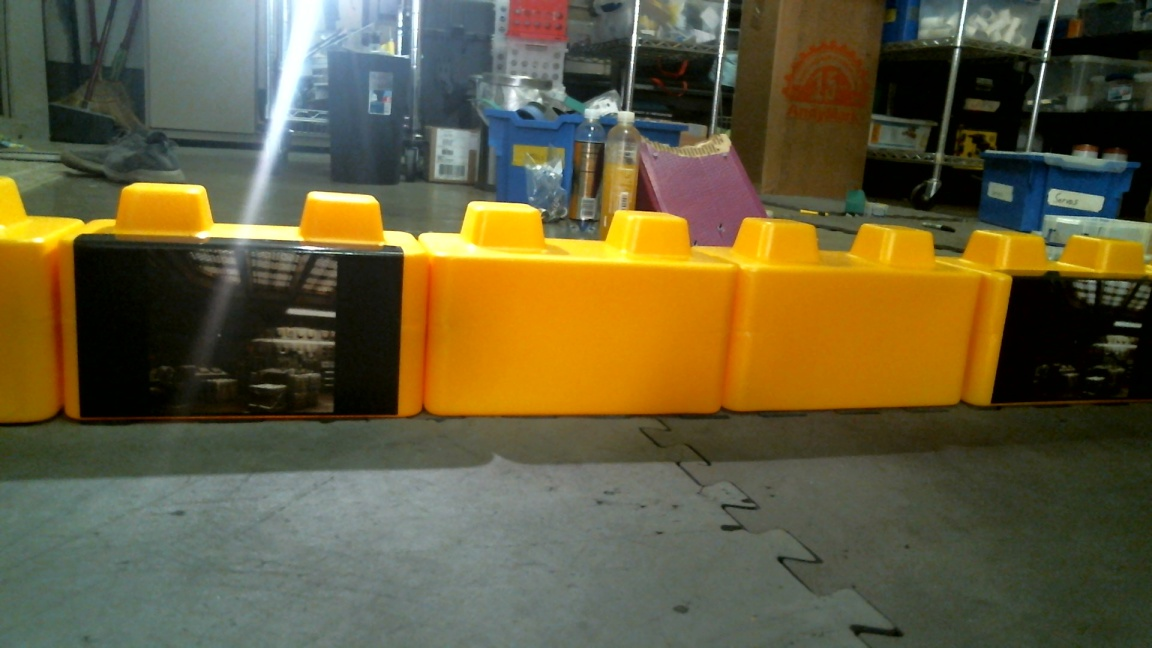left: (63, 214, 981, 432)
right: (421, 203, 1152, 418)
